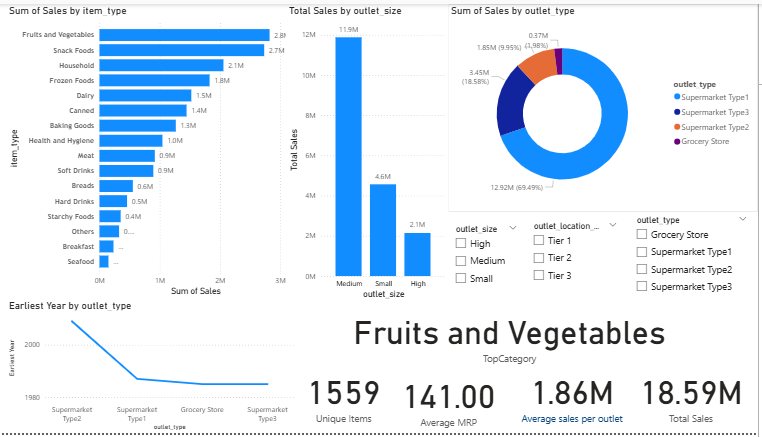

This screenshot's page, from the dashboard's own definition file:
{"tool":"powerbi","page":{"name":"Page 1","canvas":[1280,720],"ordinal":0},"visuals":[{"type":"barChart","fields":{"Category":["Cleaned_Sales_Dataset.item_type"],"Y":["Sum(Cleaned_Sales_Dataset.Sales)"]},"box":[0,1.7,495.5,495.5],"z":0},{"type":"donutChart","fields":{"Category":["Cleaned_Sales_Dataset.outlet_type"],"Y":["Sum(Cleaned_Sales_Dataset.Sales)"]},"box":[760,0,520,350],"z":1000},{"type":"columnChart","fields":{"Category":["Cleaned_Sales_Dataset.outlet_size"],"Y":["Cleaned_Sales_Dataset.Total Sales"]},"box":[487.1,0,272.1,500.6],"z":2000},{"type":"card","fields":{"Values":["Cleaned_Sales_Dataset.Total Sales"]},"box":[1055,601.7,225,111.7],"z":3000},{"type":"card","fields":{"Values":["Cleaned_Sales_Dataset.Average sales per outlet"]},"box":[856.7,601.7,221.7,111.7],"z":4000},{"type":"card","fields":{"Values":["Cleaned_Sales_Dataset.Average MRP"]},"box":[663.3,608.3,193.3,111.7],"z":5000},{"type":"card","fields":{"Values":["Cleaned_Sales_Dataset.TopCategory"]},"box":[558.3,500,610,111.7],"z":6000},{"type":"card","fields":{"Values":["Cleaned_Sales_Dataset.Unique Items"]},"box":[486.7,595,193.3,125],"z":7000},{"type":"slicer","fields":{"Values":["Cleaned_Sales_Dataset.outlet_size"]},"box":[760,365,128.3,135],"z":8000},{"type":"slicer","fields":{"Values":["Cleaned_Sales_Dataset.outlet_location_type"]},"box":[890,360,165,130],"z":9000},{"type":"slicer","fields":{"Values":["Cleaned_Sales_Dataset.outlet_type"]},"box":[1063.3,350,210,150],"z":10000},{"type":"lineChart","fields":{"Y":["Cleaned_Sales_Dataset.Earliest Year"],"Category":["Cleaned_Sales_Dataset.outlet_type"]},"box":[16.7,495,495,225],"z":11000}]}

Visuals, with their boxes in screenshot pixels (x1, y1, x2, y2), scaled from the page's 1280x720 canvas onto the 762x437 screenshot:
barChart - Cleaned_Sales_Dataset.item_type x Sum(Cleaned_Sales_Dataset.Sales): box(0, 1, 295, 302)
donutChart - Cleaned_Sales_Dataset.outlet_type x Sum(Cleaned_Sales_Dataset.Sales): box(452, 0, 761, 212)
columnChart - Cleaned_Sales_Dataset.outlet_size x Cleaned_Sales_Dataset.Total Sales: box(290, 0, 452, 304)
card - Cleaned_Sales_Dataset.Total Sales: box(628, 365, 761, 433)
card - Cleaned_Sales_Dataset.Average sales per outlet: box(510, 365, 642, 433)
card - Cleaned_Sales_Dataset.Average MRP: box(395, 369, 510, 436)
card - Cleaned_Sales_Dataset.TopCategory: box(332, 303, 696, 371)
card - Cleaned_Sales_Dataset.Unique Items: box(290, 361, 405, 436)
slicer - Cleaned_Sales_Dataset.outlet_size: box(452, 222, 529, 303)
slicer - Cleaned_Sales_Dataset.outlet_location_type: box(530, 218, 628, 297)
slicer - Cleaned_Sales_Dataset.outlet_type: box(633, 212, 758, 303)
lineChart - Cleaned_Sales_Dataset.Earliest Year x Cleaned_Sales_Dataset.outlet_type: box(10, 300, 305, 436)
